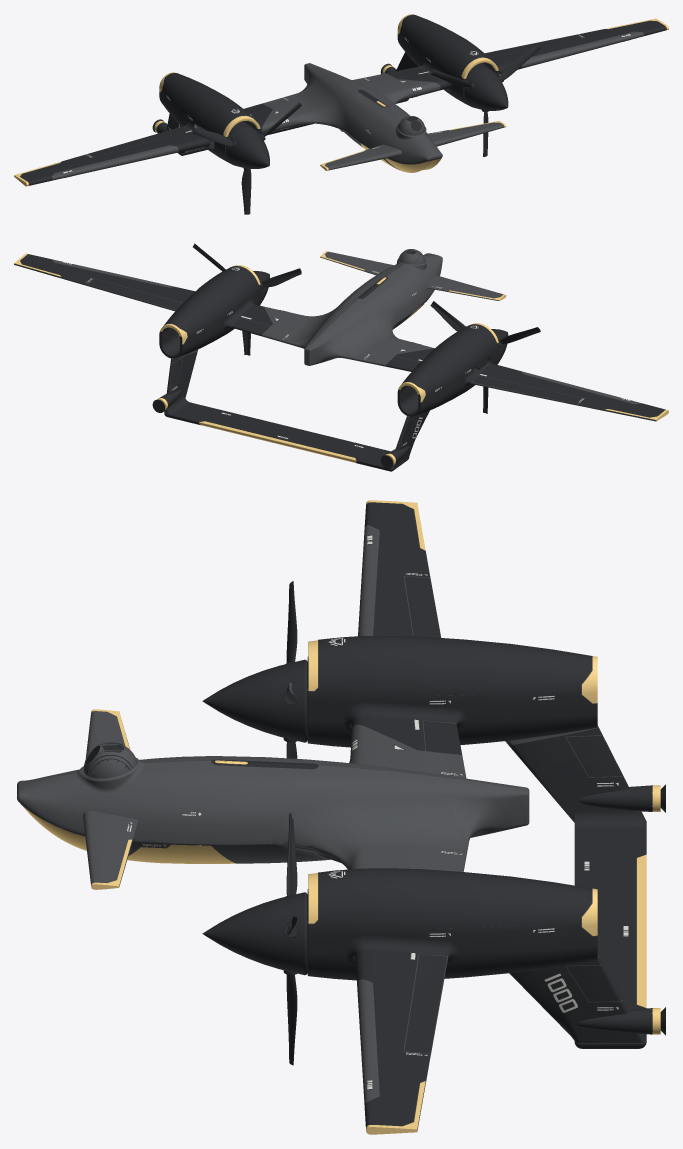
The model's file is omen-v4.glb.
3 views of the same model, one above another, from view 1: azimuth 30°, elevation 25°; view 2: azimuth 150°, elevation 25°; view 3: azimuth 270°, elevation 25° (orthographic). The views are drawn at different scales.
Visible parts, largest first — view 1: L Body, L Wing, R Body, R Wing, R Engine, L Engine, L Leg, R Leg, R Prop Hub, L Prop Hub, Tail, R Body Blend (+5 smaller); view 2: L Body, Tail, L Wing, R Body, R Wing, R Engine, L Engine, R Leg, L Leg, R Body Blend, L Body Blend; view 3: R Body, Tail, R Engine, L Engine, R Wing, R Leg, L Leg, L Wing, L Body, L Prop Hub, R Prop Hub, L Body Blend (+1 smaller).
Part boxes in pixels (x1,y1,x2,y2): L Body: (262, 63, 434, 170); L Wing: (14, 124, 209, 185); R Body: (308, 63, 506, 159); R Wing: (485, 18, 667, 74); R Engine: (397, 26, 499, 106); L Engine: (159, 84, 261, 165); L Leg: (160, 72, 237, 122); R Leg: (398, 14, 475, 64); R Prop Hub: (464, 69, 508, 112); L Prop Hub: (226, 128, 269, 170); Tail: (152, 52, 417, 155); R Body Blend: (386, 66, 447, 90); L Body: (307, 249, 506, 366); Tail: (152, 351, 429, 471); L Wing: (467, 362, 667, 421); R Body: (262, 249, 433, 365); R Wing: (14, 253, 194, 311); R Engine: (159, 265, 261, 359); L Engine: (397, 323, 499, 416); R Leg: (160, 273, 240, 336); L Leg: (398, 332, 479, 394); R Body Blend: (228, 303, 272, 336); L Body Blend: (385, 348, 434, 371); R Body: (17, 747, 529, 889); Tail: (508, 727, 665, 1048); R Engine: (307, 868, 598, 980); L Engine: (307, 636, 598, 747); R Wing: (353, 944, 450, 1134); R Leg: (370, 868, 597, 928); L Leg: (370, 636, 597, 696); L Wing: (358, 500, 441, 637); L Body: (17, 709, 529, 791); L Prop Hub: (202, 659, 307, 742); R Prop Hub: (202, 892, 307, 975); L Body Blend: (351, 713, 462, 755).
Bounding box in the file's own units: 0.381 × 0.0567 × 0.1667.
